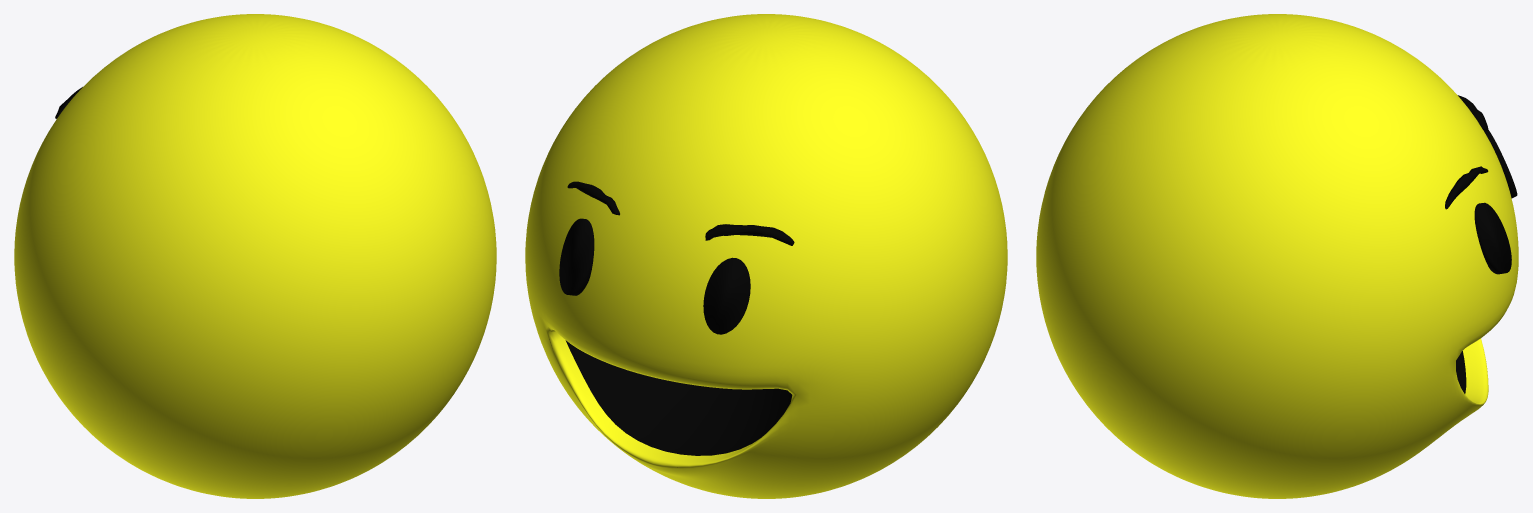
Rendered from [2] jawDrop.obj.
The picture shows the model from 3 angles, left to right: view 1: azimuth 30°, elevation 25°; view 2: azimuth 150°, elevation 25°; view 3: azimuth 270°, elevation 25°; orthographic projection.
Visible parts, largest first — view 1: head_Sphere.002; view 2: head_Sphere.002, rightEye_Cylinder.001, leftEye_Cylinder.002, rightEyebrow_Cylinder.005, leftEyebrow_Cylinder.003; view 3: head_Sphere.002, leftEye_Cylinder.002, leftEyebrow_Cylinder.003.
Part boxes in pixels (x1,y1,x2,y2): head_Sphere.002: (14,14,496,498); head_Sphere.002: (525,14,1007,498); rightEye_Cylinder.001: (703,257,750,334); leftEye_Cylinder.002: (559,218,594,295); rightEyebrow_Cylinder.005: (705,224,794,245); leftEyebrow_Cylinder.003: (567,181,619,215); head_Sphere.002: (1036,14,1518,498); leftEye_Cylinder.002: (1474,202,1511,274); leftEyebrow_Cylinder.003: (1445,166,1488,209).
Size of the model in its own units: 3.65 by 3.69 by 3.65.
